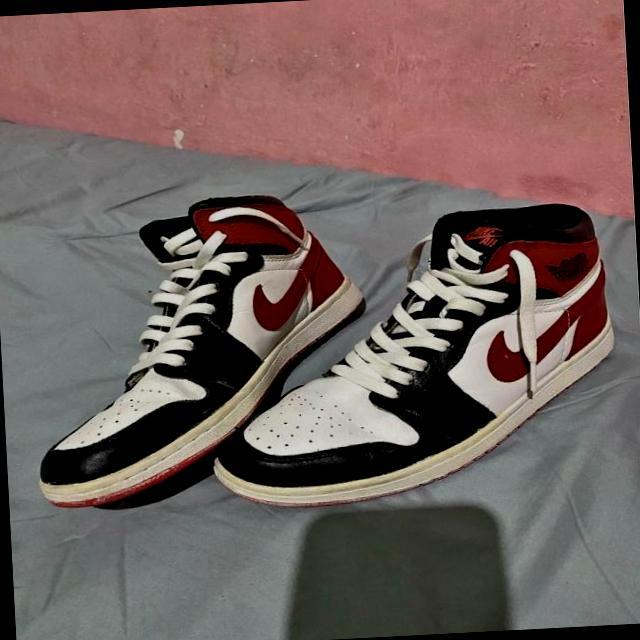nike_fake_jordan: (204, 195, 626, 512), (22, 187, 379, 512)
